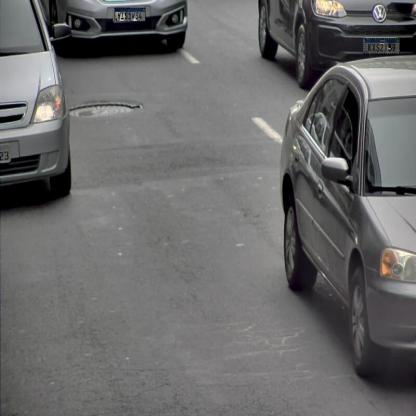PlacaM: (364, 38, 400, 54), (115, 8, 146, 22)
